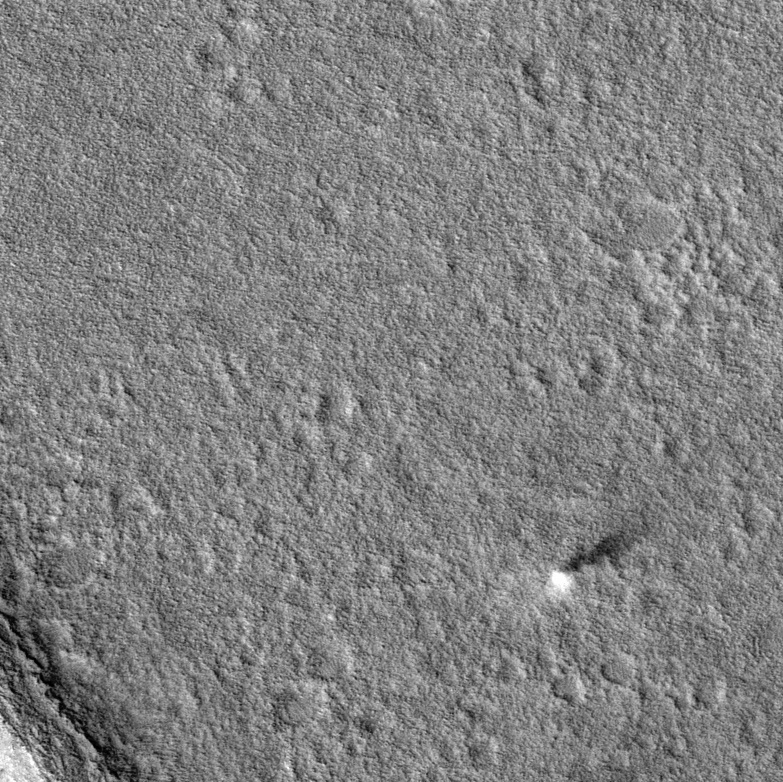dust_devil: (548, 524, 639, 595)
